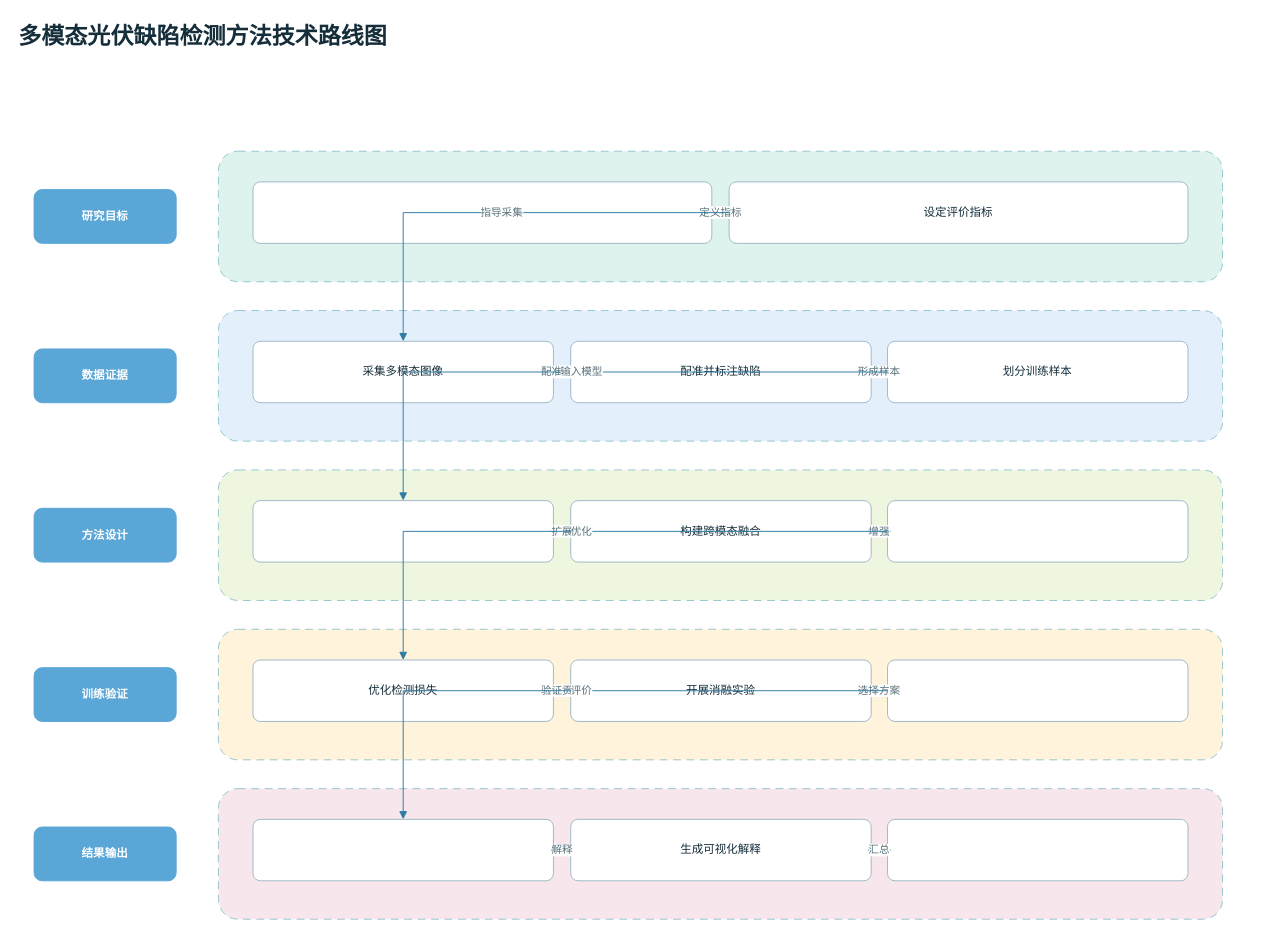
This 1281x936 diagram has some shape labels left out. Each missing label, with the box of its shape:
增强关键区域感知: (887, 500, 1188, 562)
完成指标评估: (252, 818, 553, 881)
建立基线检测器: (252, 500, 553, 562)
推理并筛选结果: (887, 659, 1188, 721)
明确缺陷检测任务: (252, 181, 712, 243)
输出缺陷报告: (887, 818, 1188, 881)
